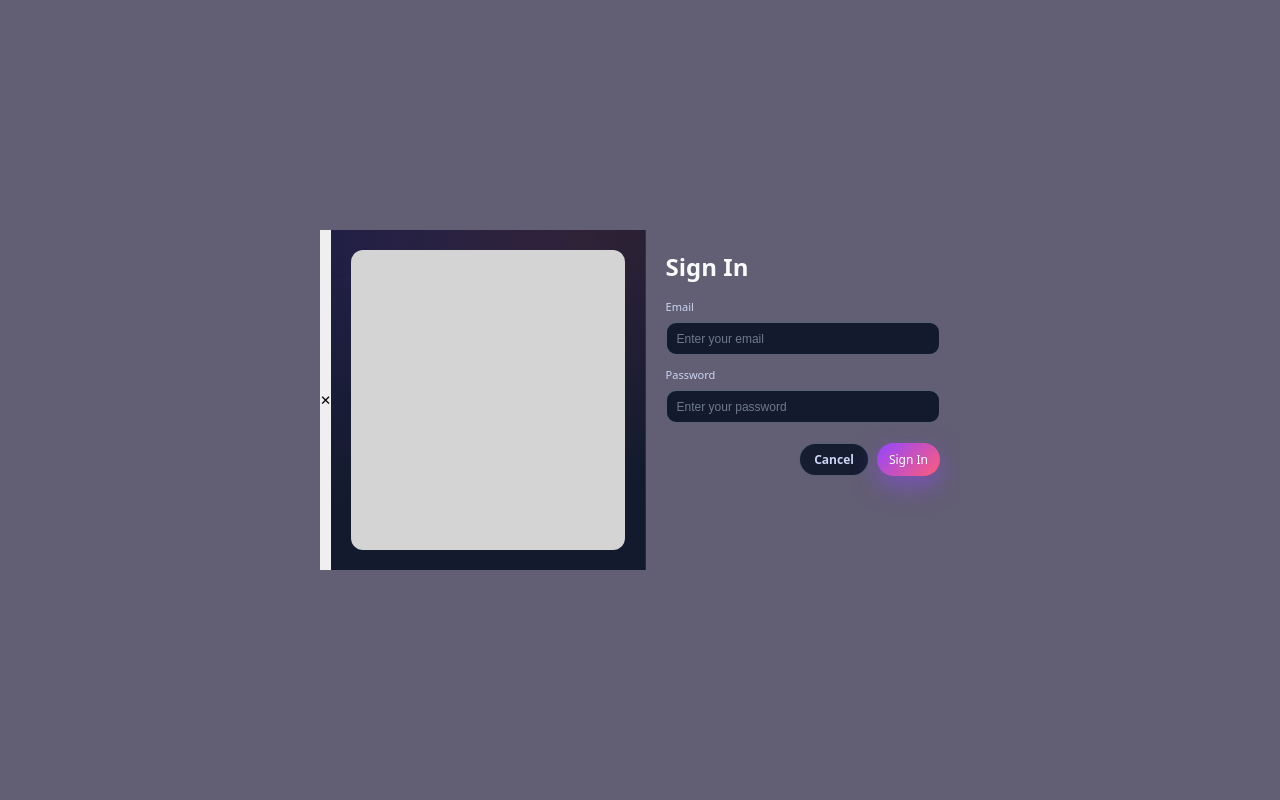
Test: SignInModal › should clear error when user starts typing
# Submit form to trigger error
Type "test@example.com" into the field with placeholder "Enter your email" at (803, 338), box [666, 322, 940, 355]
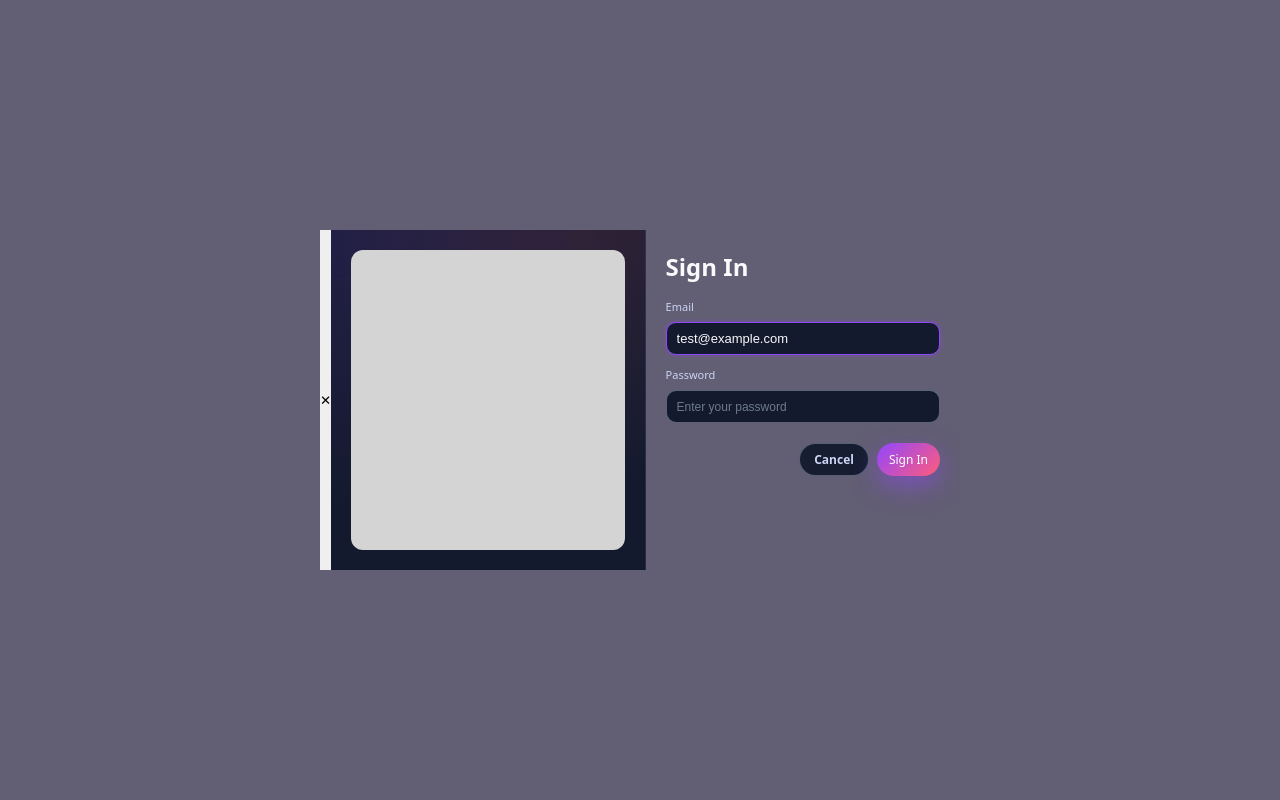
Type "wrongpassword" into the password field with placeholder "Enter your password" at (803, 406), box [666, 390, 940, 423]
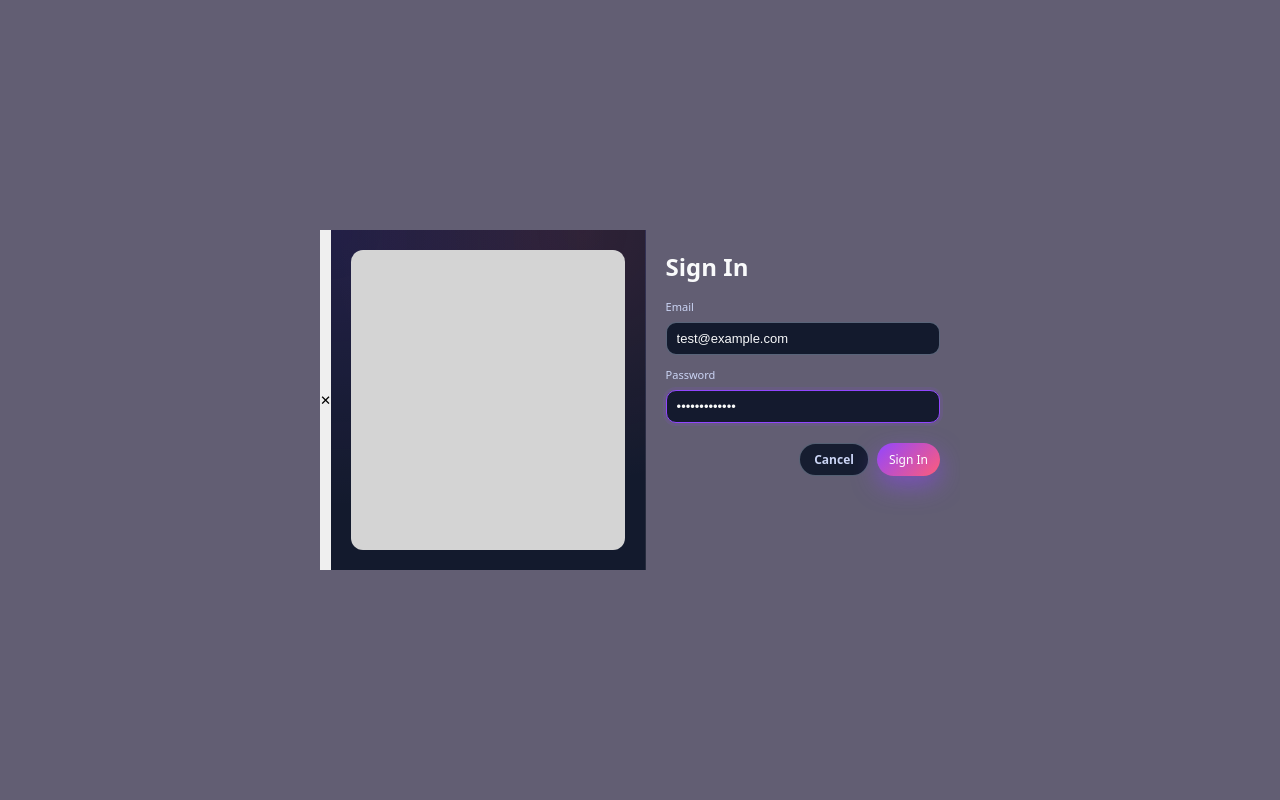
Click the button "Sign In" at (908, 460), box [877, 443, 940, 476]
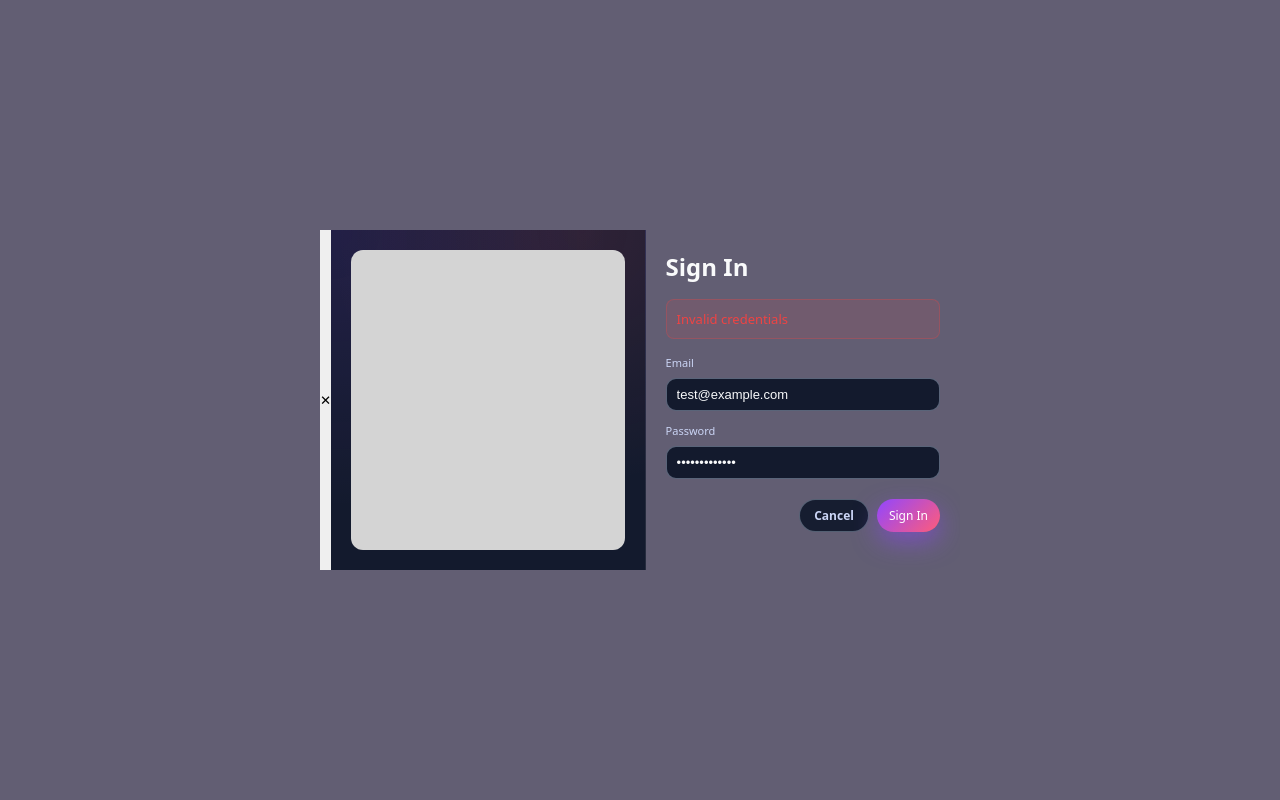
Check: the text "Invalid credentials" is shown, box [666, 299, 940, 339]
# Start typing to clear error
Type "x" into the field with placeholder "Enter your email" at (803, 394), box [666, 378, 940, 411]
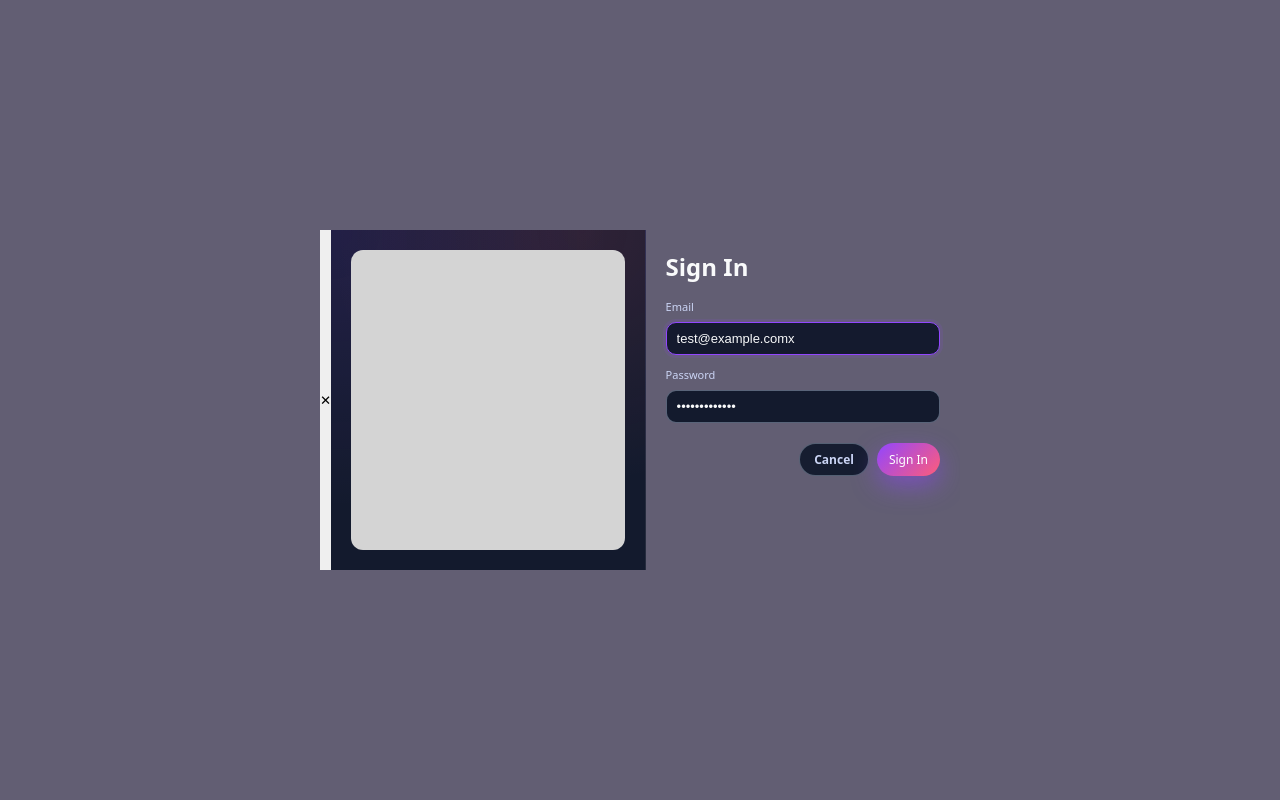
Check: the text "Invalid credentials" is gone
